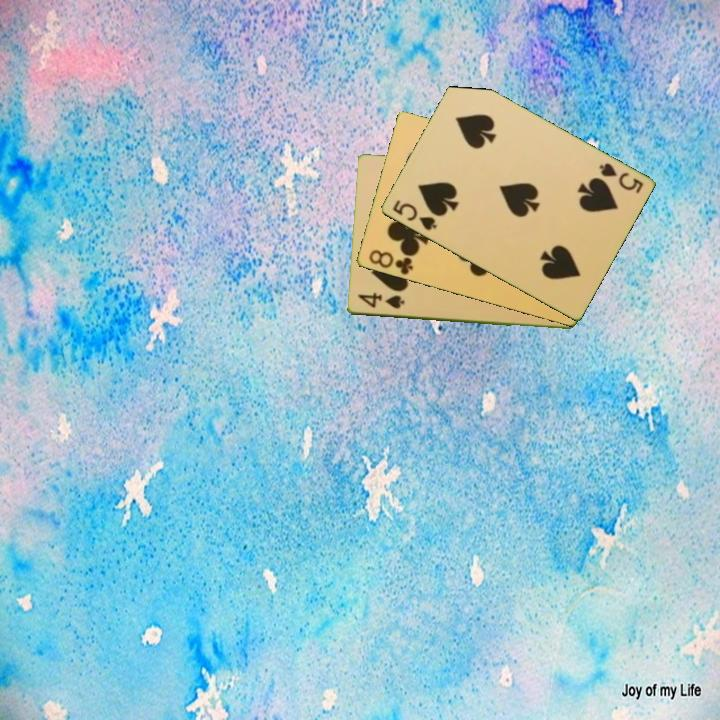4s: (354, 290, 407, 312)
5s: (388, 196, 439, 234), (595, 159, 646, 197)
8c: (365, 246, 416, 278)
